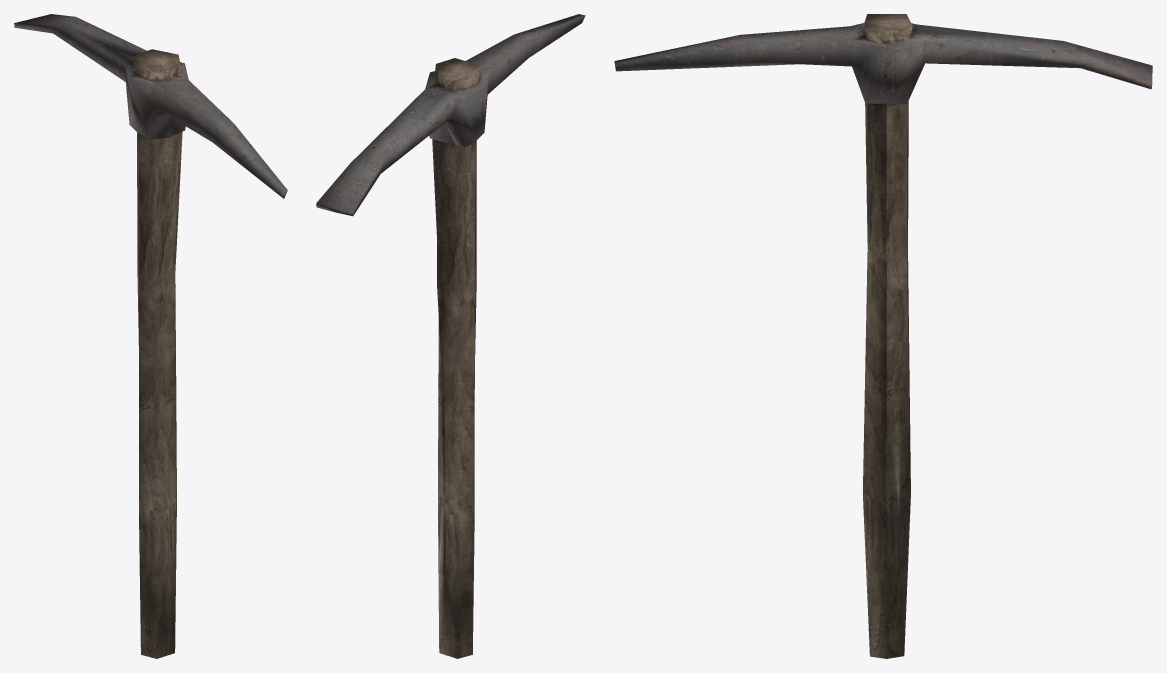
File: pickaxe.glb
The picture shows the model from 3 angles, left to right: view 1: azimuth 30°, elevation 25°; view 2: azimuth 150°, elevation 25°; view 3: azimuth 270°, elevation 25°; orthographic projection. The views are drawn at different scales.
Parts seen in each view (by area): view 1: Pickaxe; view 2: Pickaxe; view 3: Pickaxe.
Boxes of the visible parts, box(x1,y1,x2,y2) form: Pickaxe: box(14, 14, 287, 658); Pickaxe: box(316, 14, 585, 658); Pickaxe: box(614, 14, 1152, 658).
Bounding box in the file's own units: 0.0921 × 0.9005 × 0.6956.
1 material, 1 textured.
